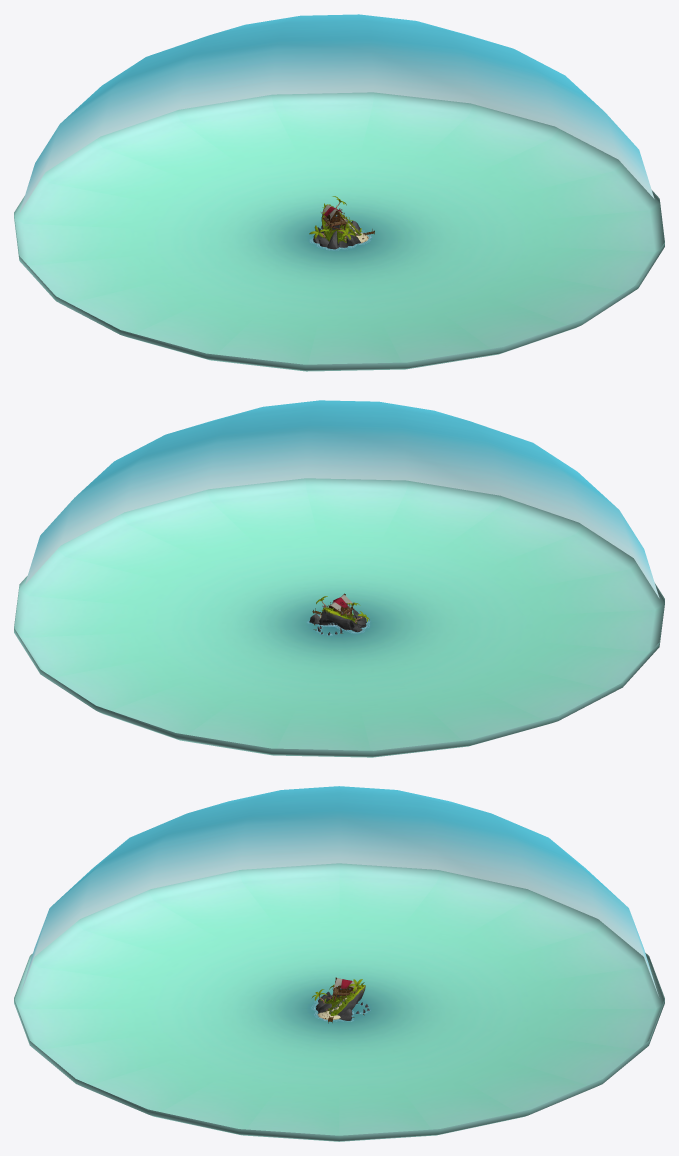
3 renders of one model, top to bottom at view 1: azimuth 30°, elevation 25°; view 2: azimuth 150°, elevation 25°; view 3: azimuth 270°, elevation 25°, orthographic.
Visible parts, largest first — view 1: SkyAndWater_Wood_0, SkyAndWater_Skydome_0, ClothAndSand, Vegetation_Vegetation_0; view 2: SkyAndWater_Wood_0, SkyAndWater_Skydome_0, ClothAndSand; view 3: SkyAndWater_Wood_0, SkyAndWater_Skydome_0, ClothAndSand, Vegetation_Vegetation_0.
Part boxes in pixels (x1=…): SkyAndWater_Wood_0: x1=14, y1=92, x2=664, y2=371; SkyAndWater_Skydome_0: x1=19, y1=14, x2=654, y2=212; ClothAndSand: x1=313, y1=205, x2=368, y2=249; Vegetation_Vegetation_0: x1=309, y1=196, x2=371, y2=250; SkyAndWater_Wood_0: x1=14, y1=478, x2=664, y2=757; SkyAndWater_Skydome_0: x1=25, y1=400, x2=659, y2=598; ClothAndSand: x1=309, y1=594, x2=366, y2=635; SkyAndWater_Wood_0: x1=14, y1=863, x2=664, y2=1141; SkyAndWater_Skydome_0: x1=20, y1=786, x2=658, y2=995; ClothAndSand: x1=316, y1=978, x2=369, y2=1020; Vegetation_Vegetation_0: x1=311, y1=979, x2=370, y2=1021.
Bounding box in the file's own units: 919 × 282 × 919.
6 materials, 6 textured.
